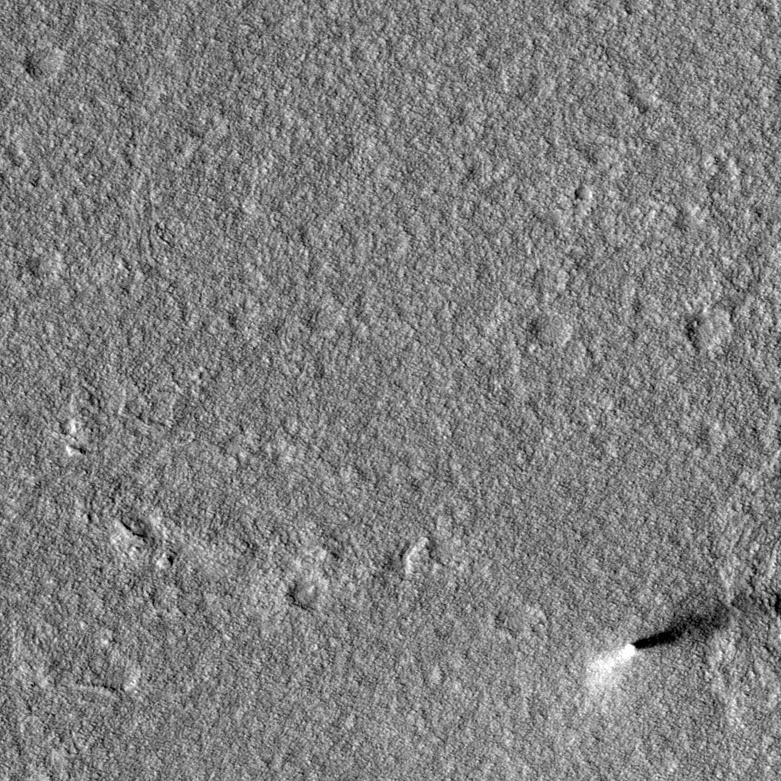dust_devil: (583, 590, 759, 690)
